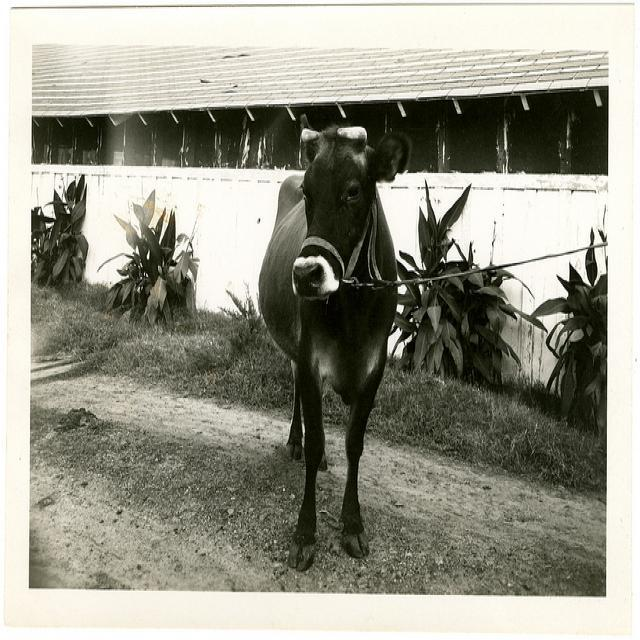cow: (257, 124, 409, 574)
